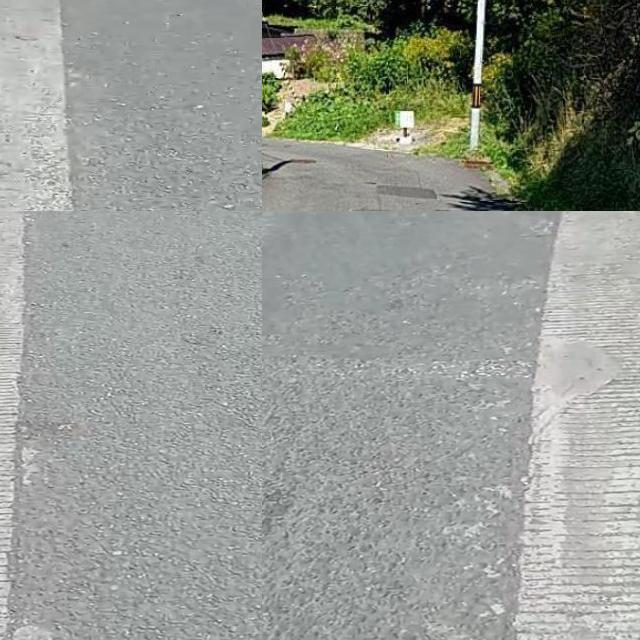Sambungan: (497, 211, 640, 640), (0, 0, 84, 211)
